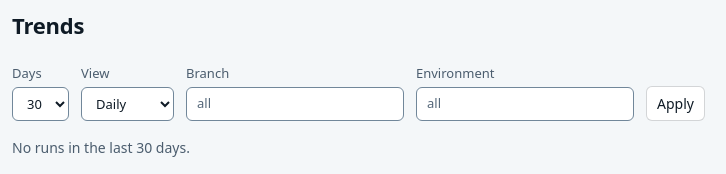
Test: branch input fetches only on Apply, not per keystroke
Expected: the text "No runs in the last 30 days." is shown, x1=12 y1=138 x2=190 y2=157
Type "main" into the field labelled "Branch" at {"x": 295, "y": 104}, box x1=186 y1=87 x2=404 y2=121
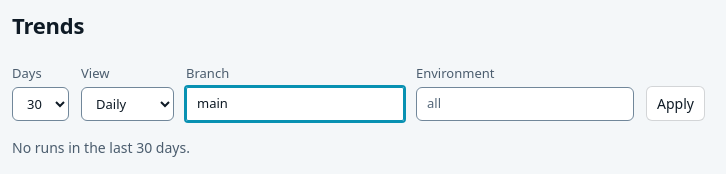
Click the button "Apply" at {"x": 675, "y": 104}, box x1=646 y1=86 x2=705 y2=121
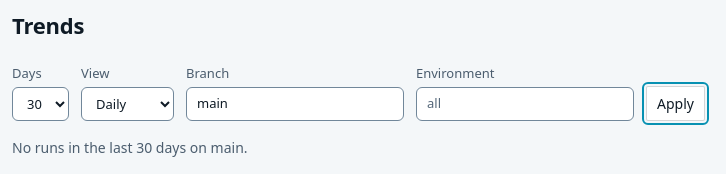
Now the text "No runs in the last 30 days on main." is shown, box x1=12 y1=138 x2=248 y2=157
